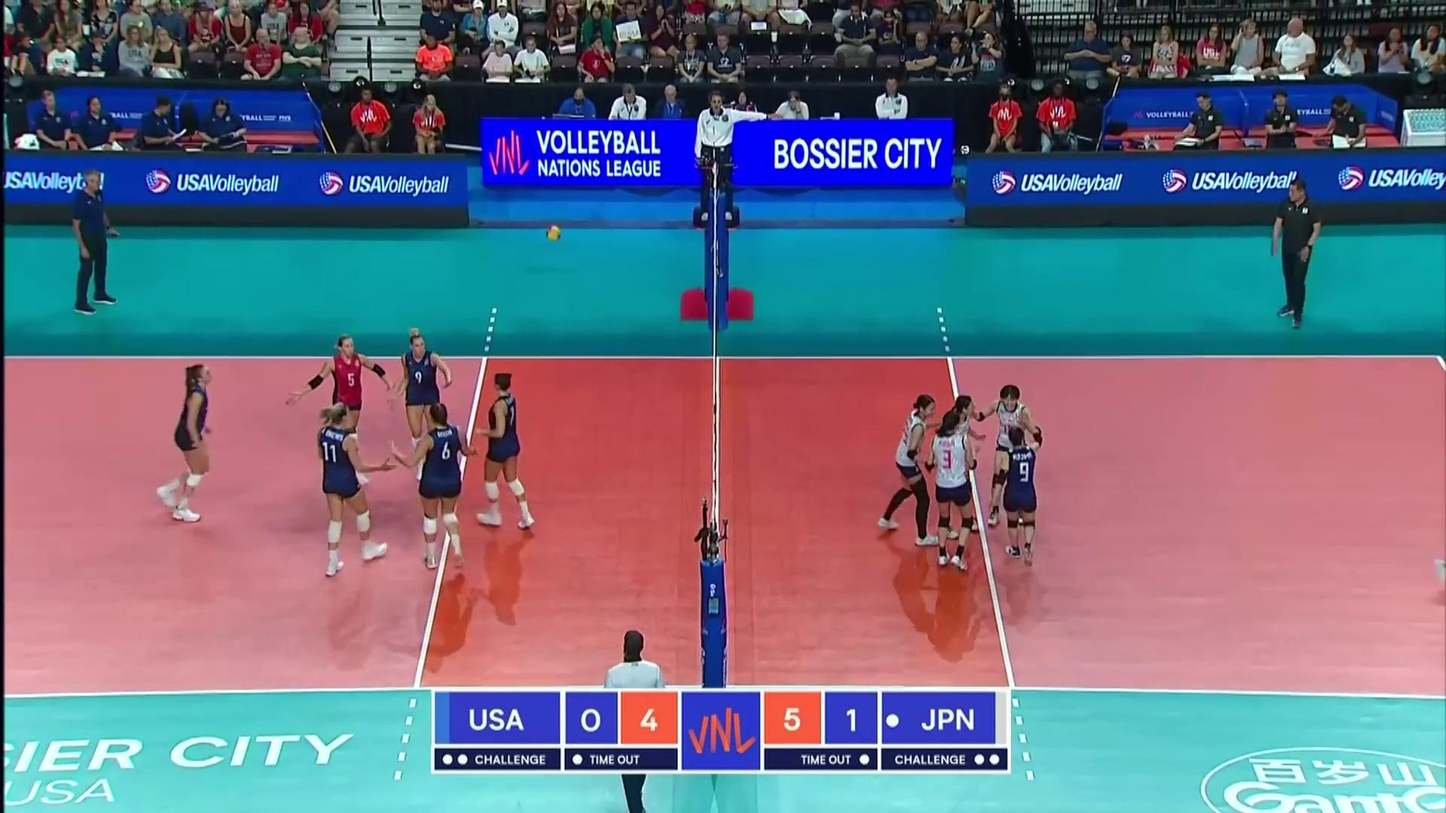player: (306, 334, 394, 483), (318, 403, 392, 575), (411, 404, 479, 567), (875, 394, 940, 547), (475, 373, 535, 530), (155, 366, 212, 524), (927, 410, 980, 572), (398, 329, 453, 483), (981, 386, 1040, 526), (996, 423, 1046, 564), (939, 394, 984, 536)
refree: (602, 630, 664, 813), (697, 94, 778, 219)
